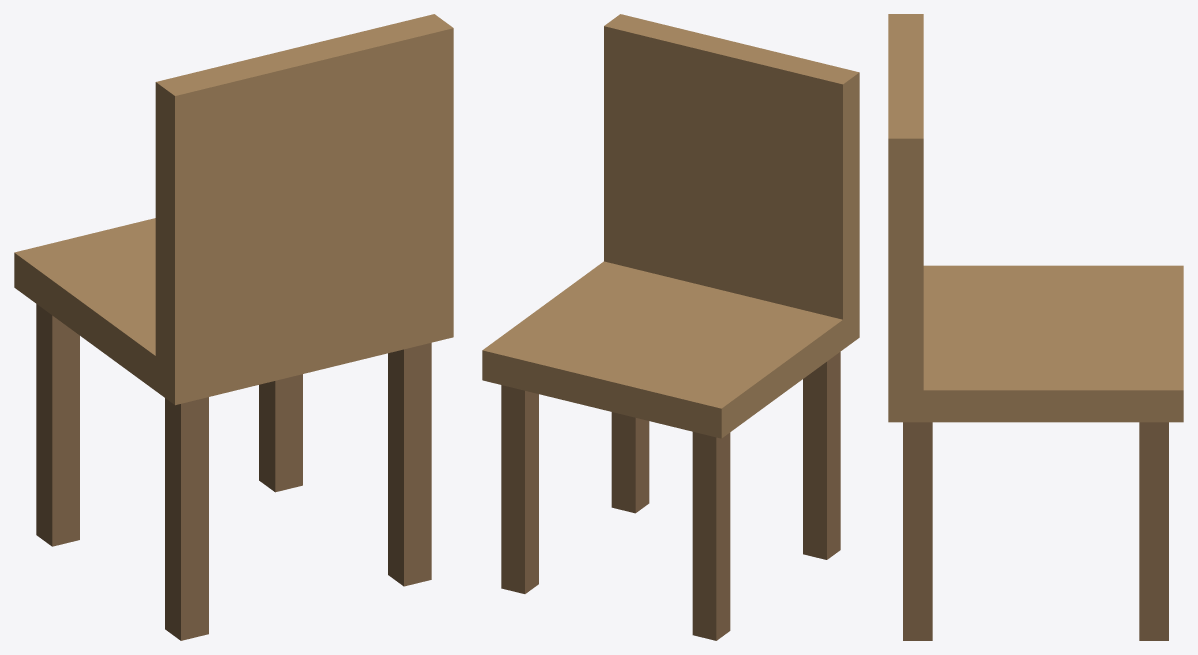
The model's file is chair.glb.
3 views of the same model, side by side, from view 1: azimuth 30°, elevation 25°; view 2: azimuth 150°, elevation 25°; view 3: azimuth 270°, elevation 25° (orthographic). The views are drawn at different scales.
Visible parts, largest first — view 1: Cube; view 2: Cube; view 3: Cube.
Boxes of the visible parts, x1=… form: Cube: x1=14, y1=14, x2=453, y2=640; Cube: x1=482, y1=14, x2=859, y2=640; Cube: x1=888, y1=14, x2=1183, y2=640.
Size of the model in its own units: 0.5 by 0.95 by 0.5.
